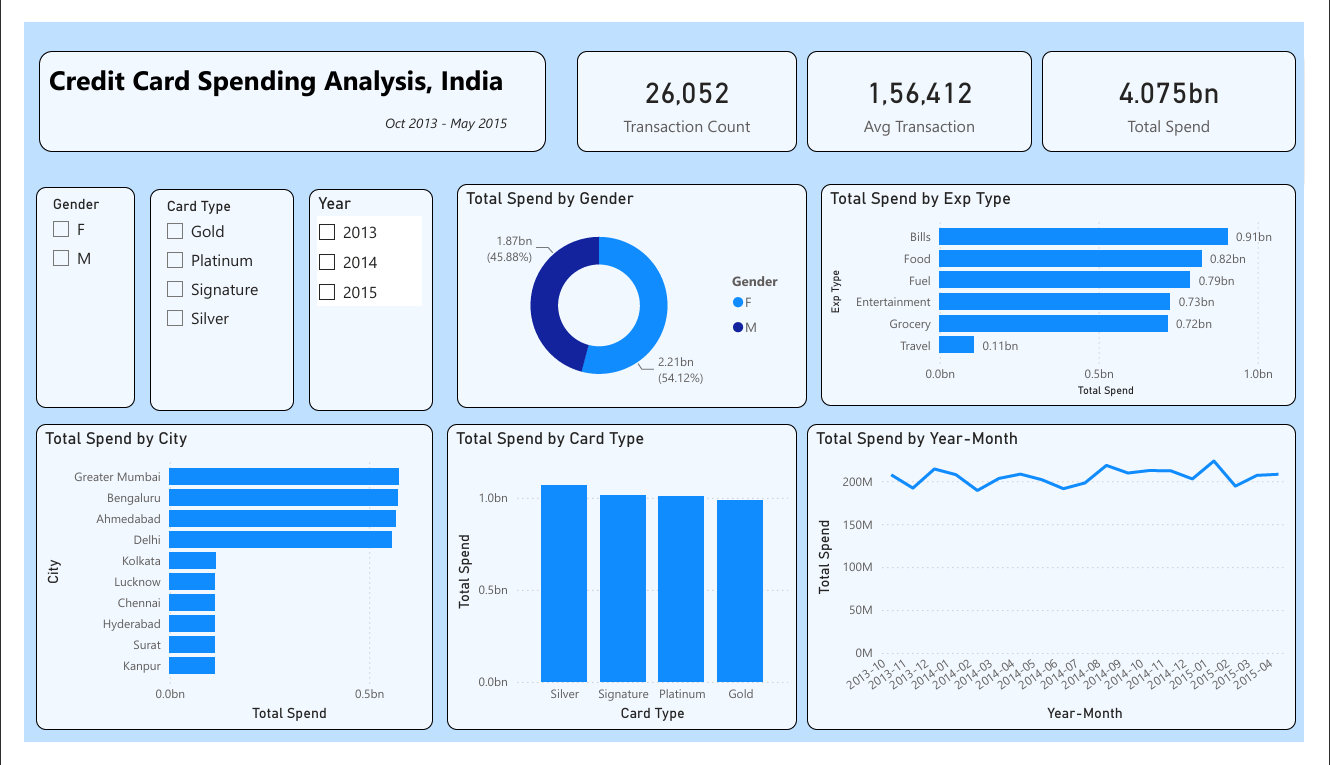

The dashboard page shown, as its layout file describes it:
{"tool":"powerbi","page":{"name":"Overview","canvas":[1280,720],"ordinal":0},"visuals":[{"type":"card","fields":{"Values":["Transactions.Transaction Count"]},"box":[551.8,28.4,220.4,101],"z":0},{"type":"card","fields":{"Values":["Transactions.Avg Transaction"]},"box":[782.2,28.4,224.7,101],"z":1000},{"type":"card","fields":{"Values":["Transactions.Total Spend"]},"box":[1016.9,28.4,254.6,101],"z":2000},{"type":"lineChart","fields":{"Category":["DateTable.Year-Month"],"Y":["Transactions.Total Spend"]},"box":[782.2,401.1,489.2,305.8],"z":3000},{"type":"textbox","box":[14.2,28.4,506.3,101],"z":4000},{"type":"clusteredColumnChart","fields":{"Category":["Transactions.Card Type"],"Y":["Transactions.Total Spend"]},"box":[422.4,401.1,349.9,305.8],"z":5000},{"type":"donutChart","fields":{"Category":["Transactions.Gender"],"Y":["Transactions.Total Spend"]},"box":[432.4,160.7,349.9,224.7],"z":6000},{"type":"barChart","fields":{"Category":["Transactions.Exp Type"],"Y":["Transactions.Total Spend"]},"box":[796.4,160.7,475,221.9],"z":7000},{"type":"barChart","fields":{"Category":["Transactions.City"],"Y":["Transactions.Total Spend"]},"box":[11.4,401.1,396.8,305.8],"z":8000},{"type":"listSlicer","fields":{"Values":["DateTable.Year"]},"box":[284.4,166.4,123.7,221.9],"z":9000},{"type":"slicer","fields":{"Values":["Transactions.Card Type"]},"box":[125.2,166.4,143.6,221.9],"z":10000},{"type":"slicer","fields":{"Values":["Transactions.Gender"]},"box":[11.4,163.6,98.1,221.9],"z":11000}]}

Visuals, with their boxes in screenshot pixels (x1, y1, x2, y2), scaled from the page's 1280x720 canvas onto the 1330x765 screenshot:
card - Transactions.Transaction Count: detection(573, 30, 802, 137)
card - Transactions.Avg Transaction: detection(813, 30, 1046, 137)
card - Transactions.Total Spend: detection(1057, 30, 1321, 137)
lineChart - DateTable.Year-Month x Transactions.Total Spend: detection(813, 426, 1321, 751)
textbox: detection(15, 30, 541, 137)
clusteredColumnChart - Transactions.Card Type x Transactions.Total Spend: detection(439, 426, 802, 751)
donutChart - Transactions.Gender x Transactions.Total Spend: detection(449, 171, 813, 409)
barChart - Transactions.Exp Type x Transactions.Total Spend: detection(828, 171, 1321, 407)
barChart - Transactions.City x Transactions.Total Spend: detection(12, 426, 424, 751)
listSlicer - DateTable.Year: detection(296, 177, 424, 413)
slicer - Transactions.Card Type: detection(130, 177, 279, 413)
slicer - Transactions.Gender: detection(12, 174, 114, 410)
